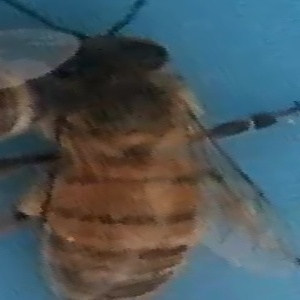bee: (10, 27, 287, 300)
